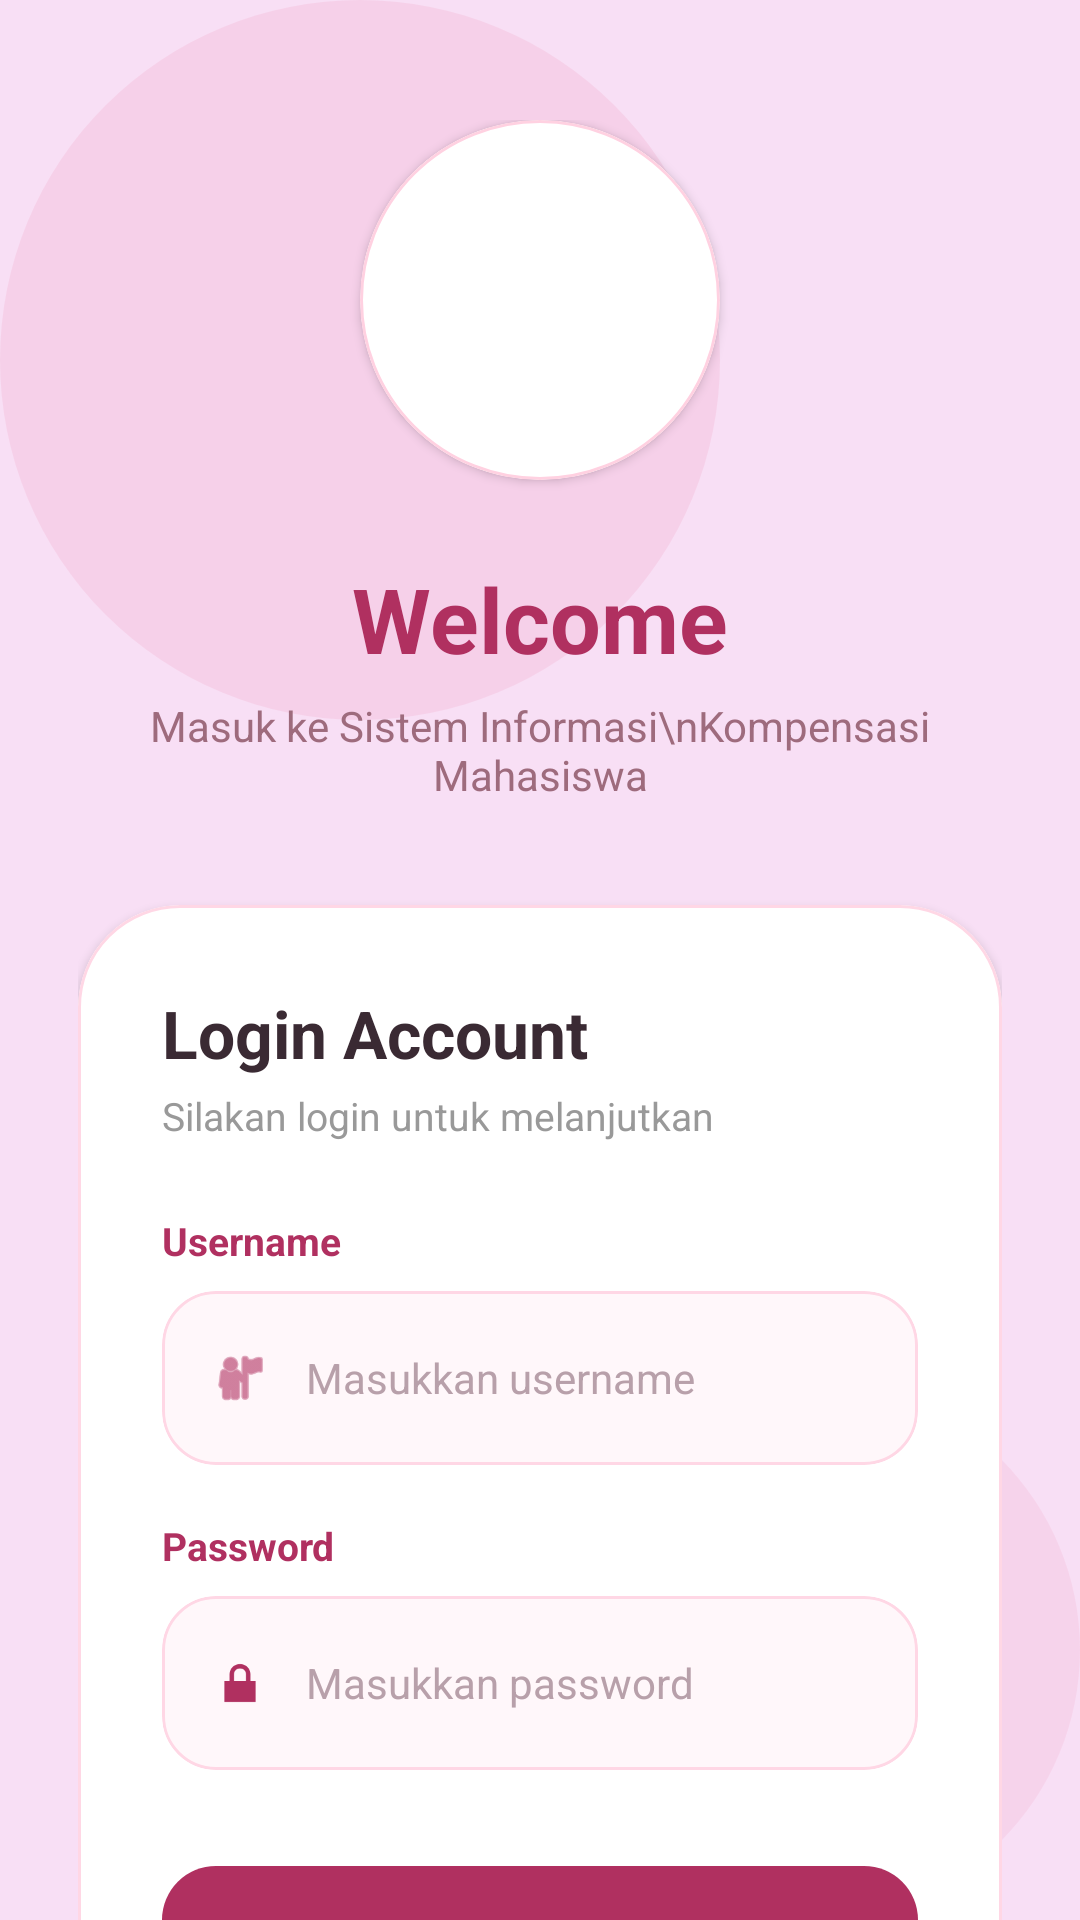

Locate icon controls on the screen. Image size 1080x1920, boxes as [x1, y1, x2, y2].
lock: [224, 1664, 256, 1702]
myplaces: [218, 1356, 263, 1400]
